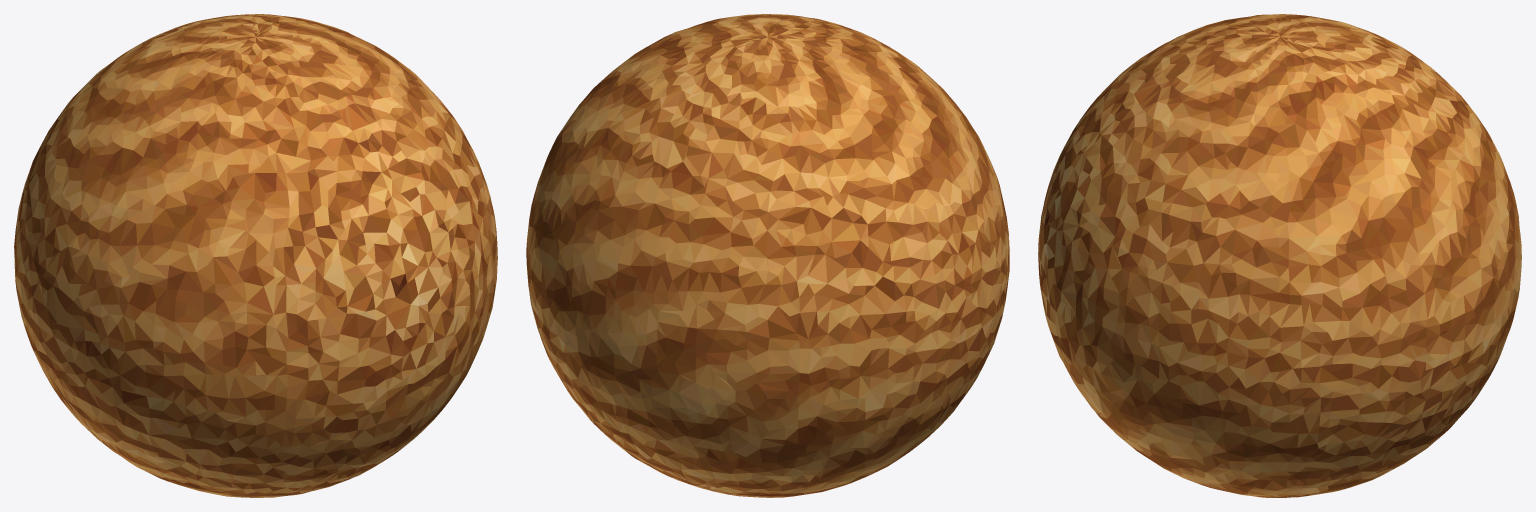
File: siroco.obj
3 views of the same model, side by side, from view 1: azimuth 30°, elevation 25°; view 2: azimuth 150°, elevation 25°; view 3: azimuth 270°, elevation 25° (orthographic).
Visible parts, largest first — view 1: siroco; view 2: siroco; view 3: siroco.
Boxes of the visible parts, box(x1,y1,x2,y2) form: siroco: box(14, 14, 497, 497); siroco: box(526, 14, 1009, 497); siroco: box(1038, 14, 1521, 497).
Bounding box in the file's own units: 2 × 2 × 2.
